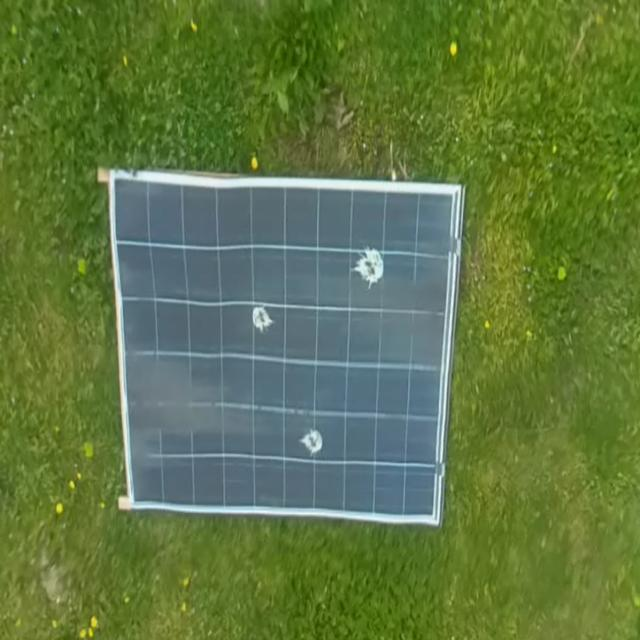faulty: (110, 178, 446, 522)
